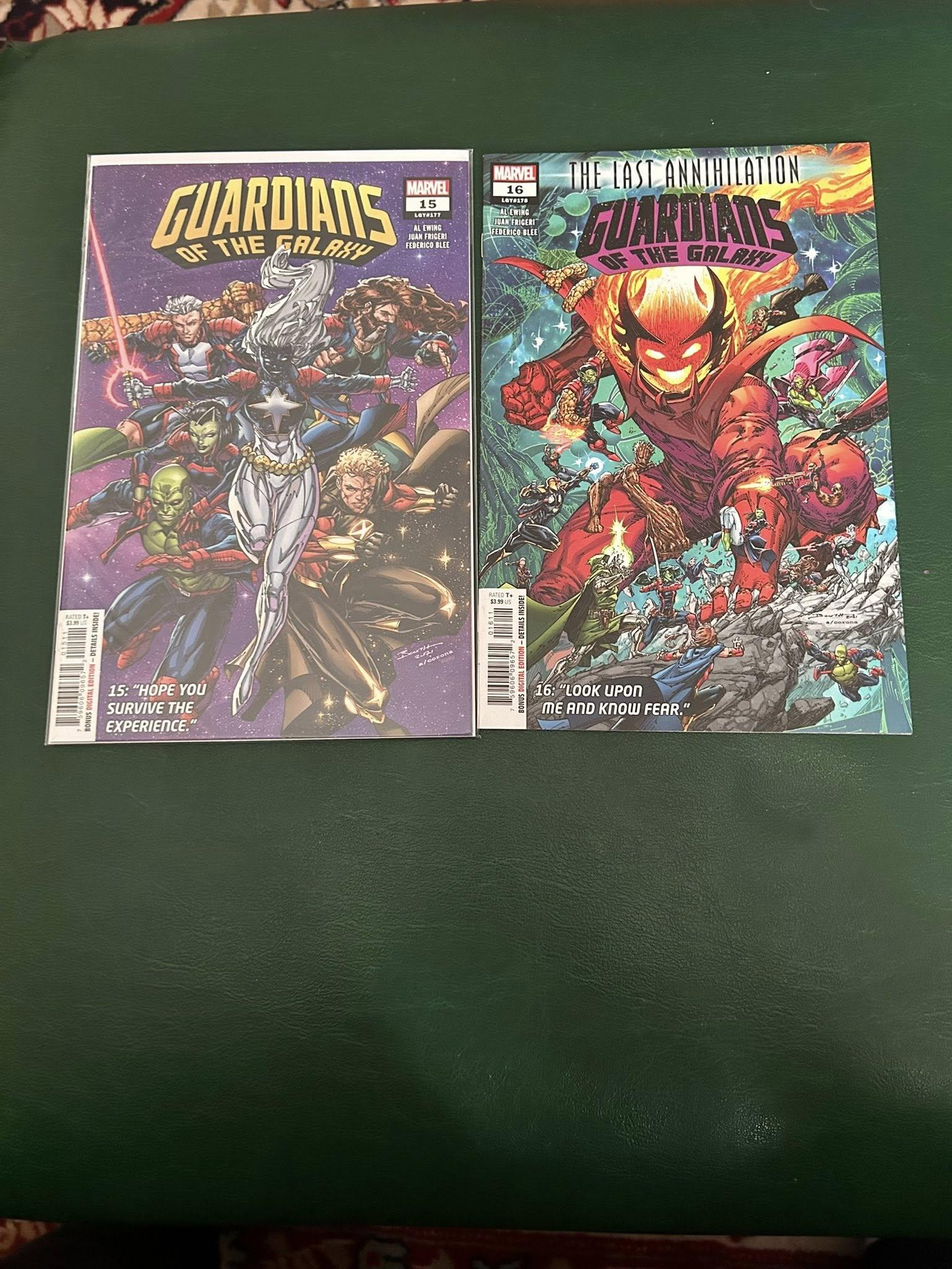comic: (474, 144, 911, 737), (43, 151, 474, 742)
